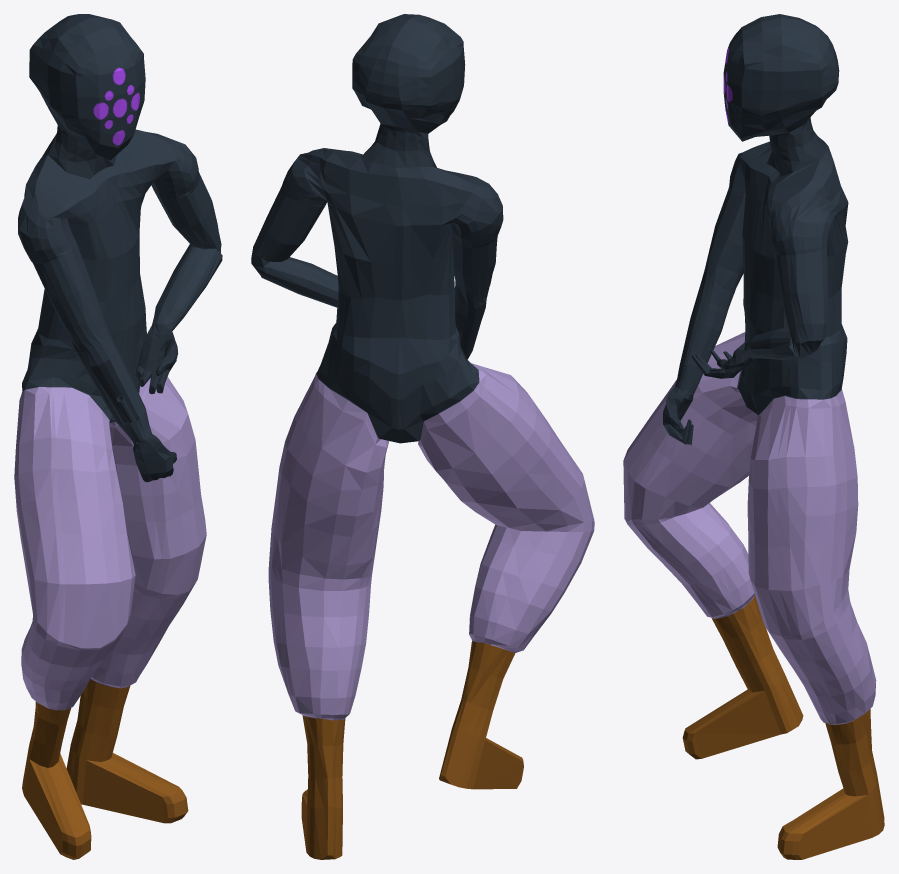
The model's file is Oracle_WR_000007.obj.
The picture shows the model from 3 angles, left to right: view 1: azimuth 30°, elevation 25°; view 2: azimuth 150°, elevation 25°; view 3: azimuth 270°, elevation 25°; orthographic projection. The views are drawn at different scales.
Parts seen in each view (by area): view 1: Cube; view 2: Cube; view 3: Cube.
Boxes of the visible parts, x1,y1,x2,y2 form: Cube: [14, 14, 222, 859]; Cube: [251, 14, 594, 859]; Cube: [623, 14, 884, 859].
Size of the model in its own units: 1.28 by 3.86 by 1.15.
